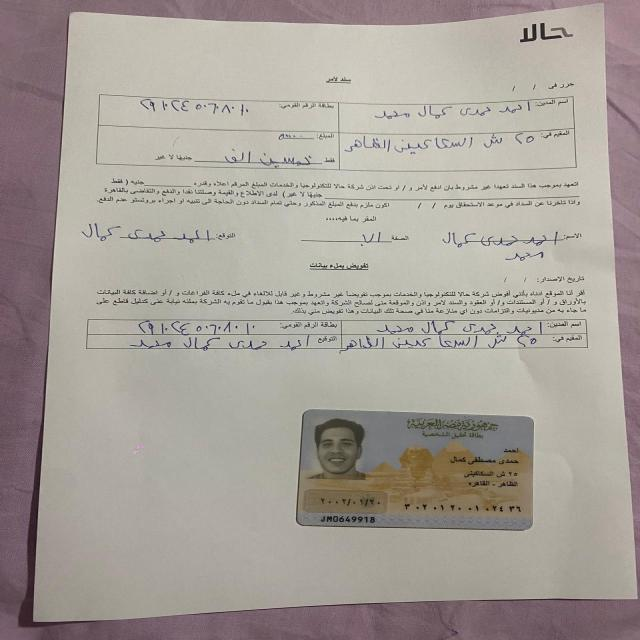id_card: (282, 407, 543, 539)
